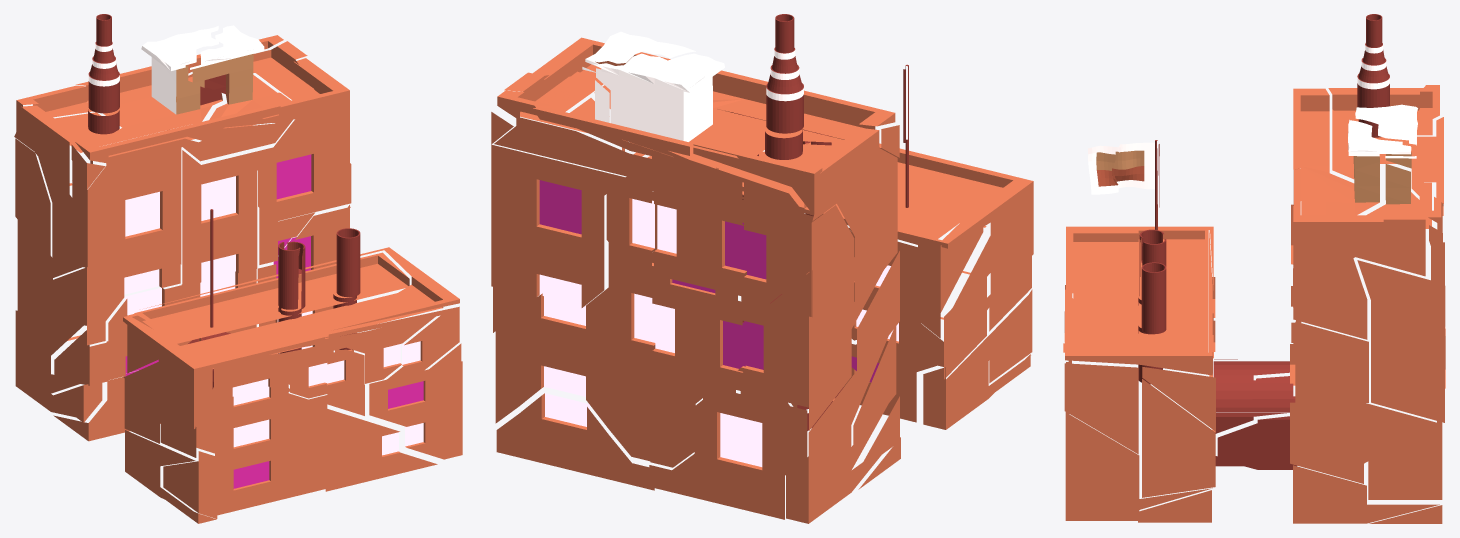
Rendered from factory-explosion.gltf.
3 renders of one model, left to right at view 1: azimuth 30°, elevation 25°; view 2: azimuth 150°, elevation 25°; view 3: azimuth 270°, elevation 25°, orthographic. The views are drawn at different scales.
Visible parts, largest first — view 1: Cube.077, Cube.020, Cube.029, Cube.060, Cube.011, Cube.007, Cube.064, Cube.022, Cube.037, Cube.082, Cube.062, Cube.021 (+31 smaller); view 2: Cube.009, Cube.059, Cube.007, Cube.081, Cube.056, Cube.020, Cube.005, Cube.051, Cube.032, Cube.023, Cube.085, Cube.019 (+25 smaller); view 3: Cube.059, Cube.068, Cube.065, Cube.020, Cube.022, Cube.057, Cube.060, Cube.017, Cube.048, Cube.007, Cube.046, Cube.009 (+21 smaller).
Boxes of the visible parts, left/top/right/bottom form: Cube.077: left=38, top=138, right=199, bottom=267; Cube.020: left=123, top=293, right=396, bottom=429; Cube.029: left=182, top=147, right=275, bottom=286; Cube.060: left=134, top=252, right=409, bottom=343; Cube.011: left=160, top=386, right=327, bottom=463; Cube.007: left=76, top=26, right=222, bottom=146; Cube.064: left=258, top=110, right=351, bottom=220; Cube.022: left=369, top=361, right=462, bottom=459; Cube.037: left=51, top=249, right=180, bottom=345; Cube.082: left=217, top=441, right=327, bottom=515; Cube.062: left=325, top=409, right=437, bottom=491; Cube.021: left=190, top=25, right=290, bottom=119; Cube.009: left=495, top=242, right=655, bottom=461; Cube.059: left=491, top=144, right=626, bottom=307; Cube.007: left=532, top=53, right=844, bottom=171; Cube.081: left=649, top=388, right=807, bottom=519; Cube.056: left=676, top=158, right=854, bottom=316; Cube.020: left=759, top=143, right=1033, bottom=316; Cube.005: left=725, top=271, right=882, bottom=430; Cube.051: left=654, top=180, right=746, bottom=296; Cube.032: left=652, top=280, right=745, bottom=389; Cube.023: left=496, top=393, right=654, bottom=490; Cube.085: left=786, top=336, right=893, bottom=523; Cube.019: left=606, top=140, right=742, bottom=274; Cube.059: left=1357, top=242, right=1444, bottom=422; Cube.068: left=1293, top=201, right=1383, bottom=339; Cube.065: left=1290, top=344, right=1436, bottom=483; Cube.020: left=1066, top=226, right=1213, bottom=349; Cube.022: left=1065, top=412, right=1212, bottom=520; Cube.057: left=1142, top=379, right=1215, bottom=497; Cube.060: left=1138, top=227, right=1208, bottom=352; Cube.017: left=1295, top=321, right=1368, bottom=402; Cube.048: left=1064, top=363, right=1138, bottom=454; Cube.007: left=1332, top=104, right=1443, bottom=203; Cube.046: left=1065, top=227, right=1212, bottom=375; Cube.009: left=1368, top=421, right=1442, bottom=499.
Size of the model in its own units: 5.45 by 7.48 by 6.47.
